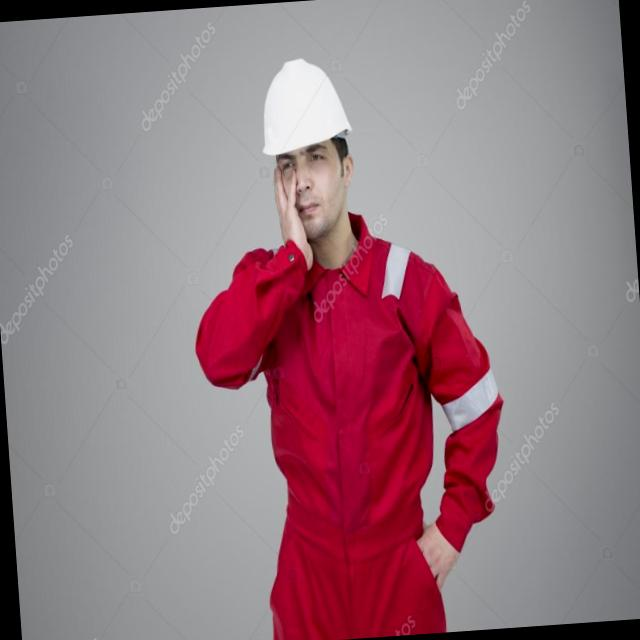helmet: (257, 56, 349, 154)
no-goggles: (272, 149, 353, 173)
